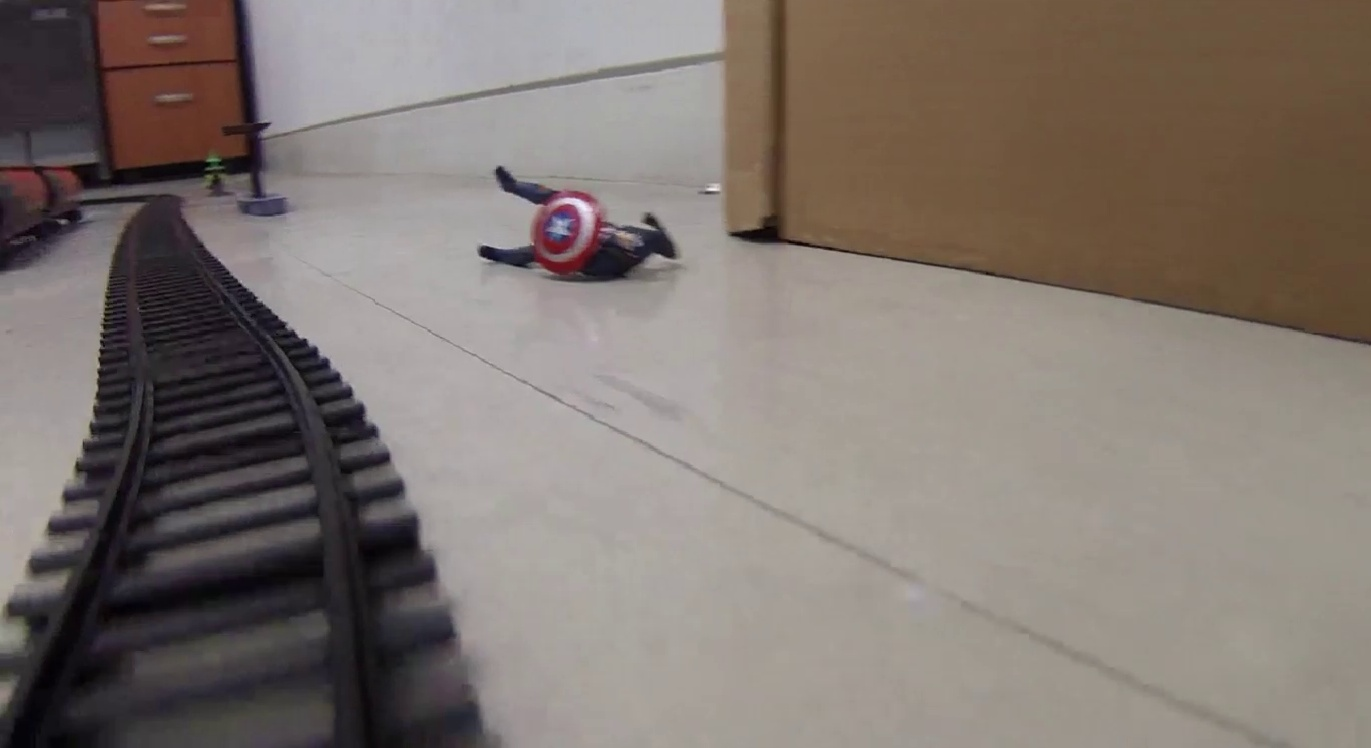people: (476, 165, 681, 284)
